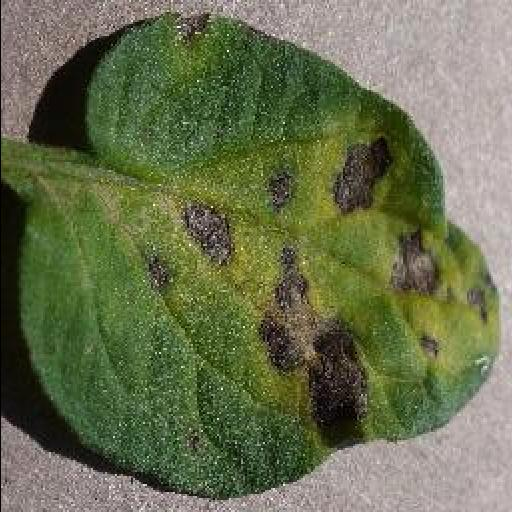disease_tomato: (16, 16, 496, 502)
